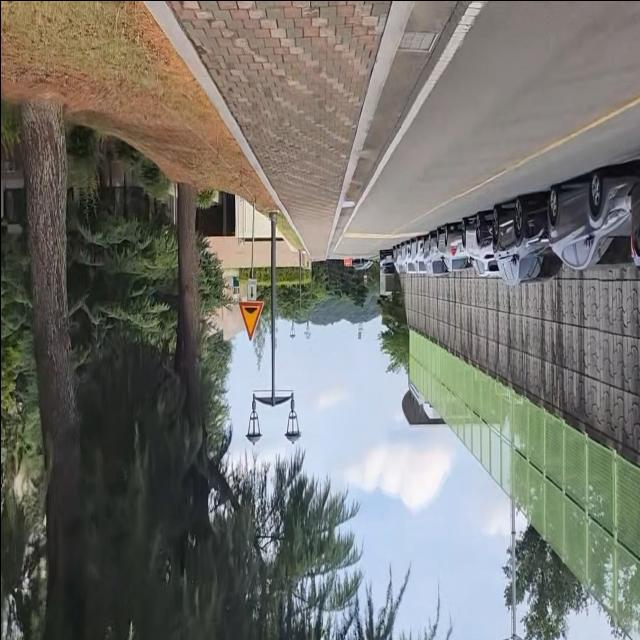obstacle: (240, 215, 302, 446)
road: (328, 0, 640, 258)
sidewalk: (138, 0, 414, 262)
